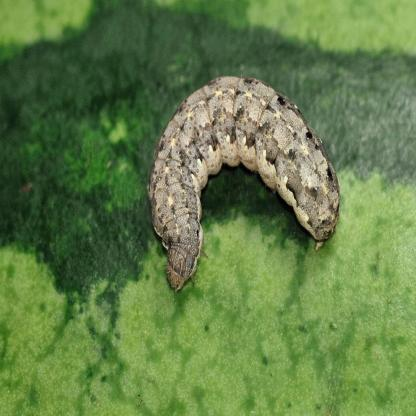armyworm: (148, 69, 340, 291)
